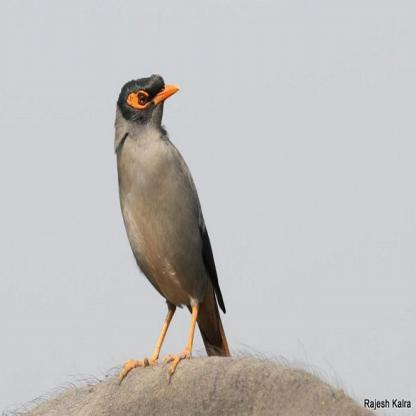Burung: (102, 74, 240, 386)
